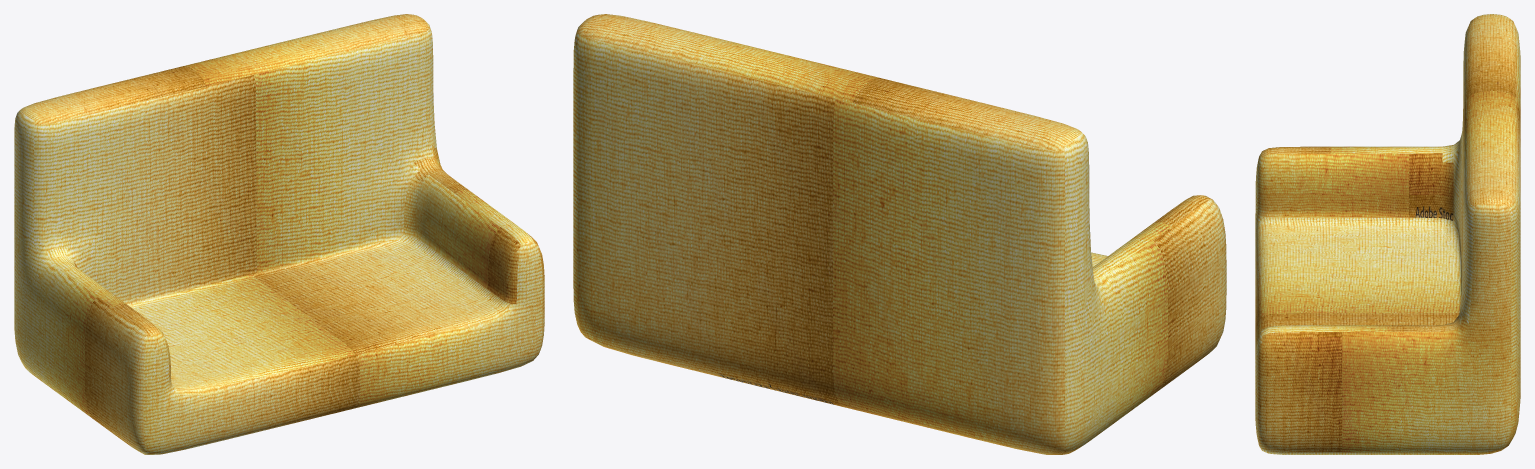
File: couch.glb
The picture shows the model from 3 angles, left to right: view 1: azimuth 30°, elevation 25°; view 2: azimuth 150°, elevation 25°; view 3: azimuth 270°, elevation 25°; orthographic projection. The views are drawn at different scales.
Parts seen in each view (by area): view 1: Plane.001; view 2: Plane.001; view 3: Plane.001.
Boxes of the visible parts, x1,y1,x2,y2 form: Plane.001: (14, 14, 544, 454); Plane.001: (573, 14, 1226, 454); Plane.001: (1255, 14, 1520, 454).
Size of the model in its own units: 2 by 1.24 by 1.14.
Materials: 1 (1 with a texture image).
